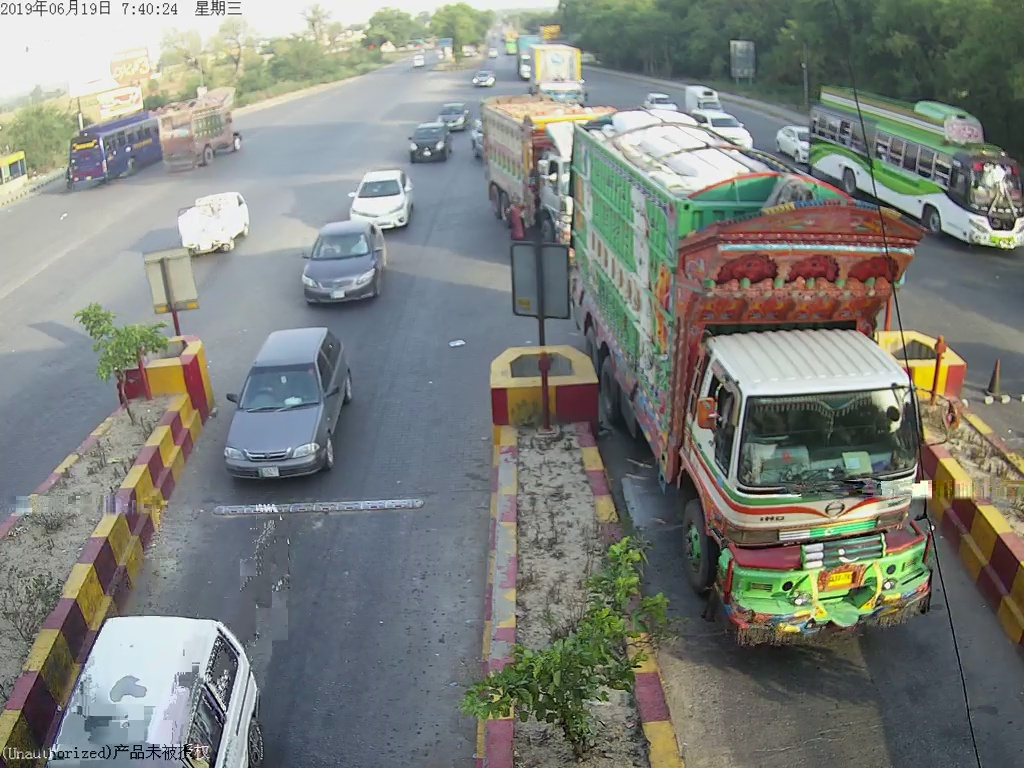Cat-1: (224, 329, 336, 478), (300, 218, 392, 308), (355, 168, 409, 234), (411, 129, 450, 164)
Cat-4: (543, 103, 921, 639)
